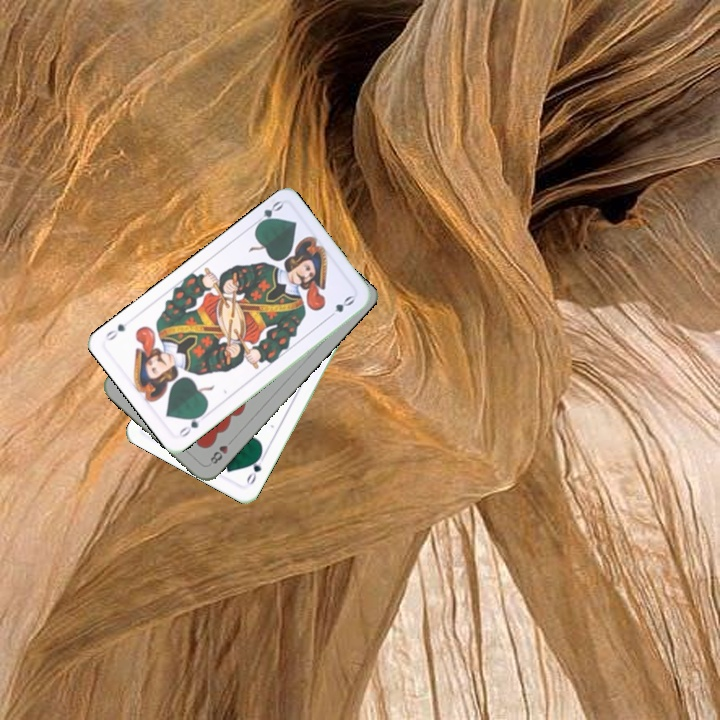GO: (249, 197, 285, 230), (174, 408, 207, 440), (242, 450, 264, 488)
H8: (206, 435, 236, 467)
